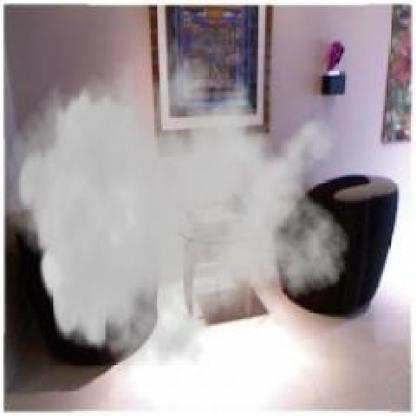Smoke: (5, 18, 352, 384)
